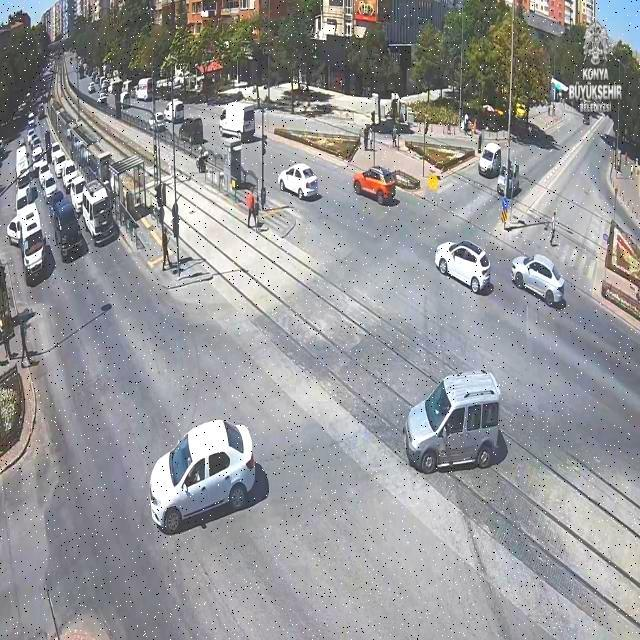Car: (149, 420, 258, 534), (403, 370, 502, 473), (435, 240, 493, 293), (512, 254, 565, 306), (48, 193, 87, 260), (353, 165, 397, 203), (278, 163, 319, 199), (7, 207, 40, 248), (497, 160, 520, 198), (479, 142, 502, 178), (68, 176, 88, 214), (61, 163, 83, 193), (39, 168, 58, 200), (52, 151, 71, 179), (164, 99, 184, 122), (148, 113, 166, 132), (97, 92, 108, 104), (88, 82, 96, 93)
Van: (17, 205, 49, 283), (83, 180, 116, 245), (219, 100, 256, 140), (179, 118, 205, 145)
